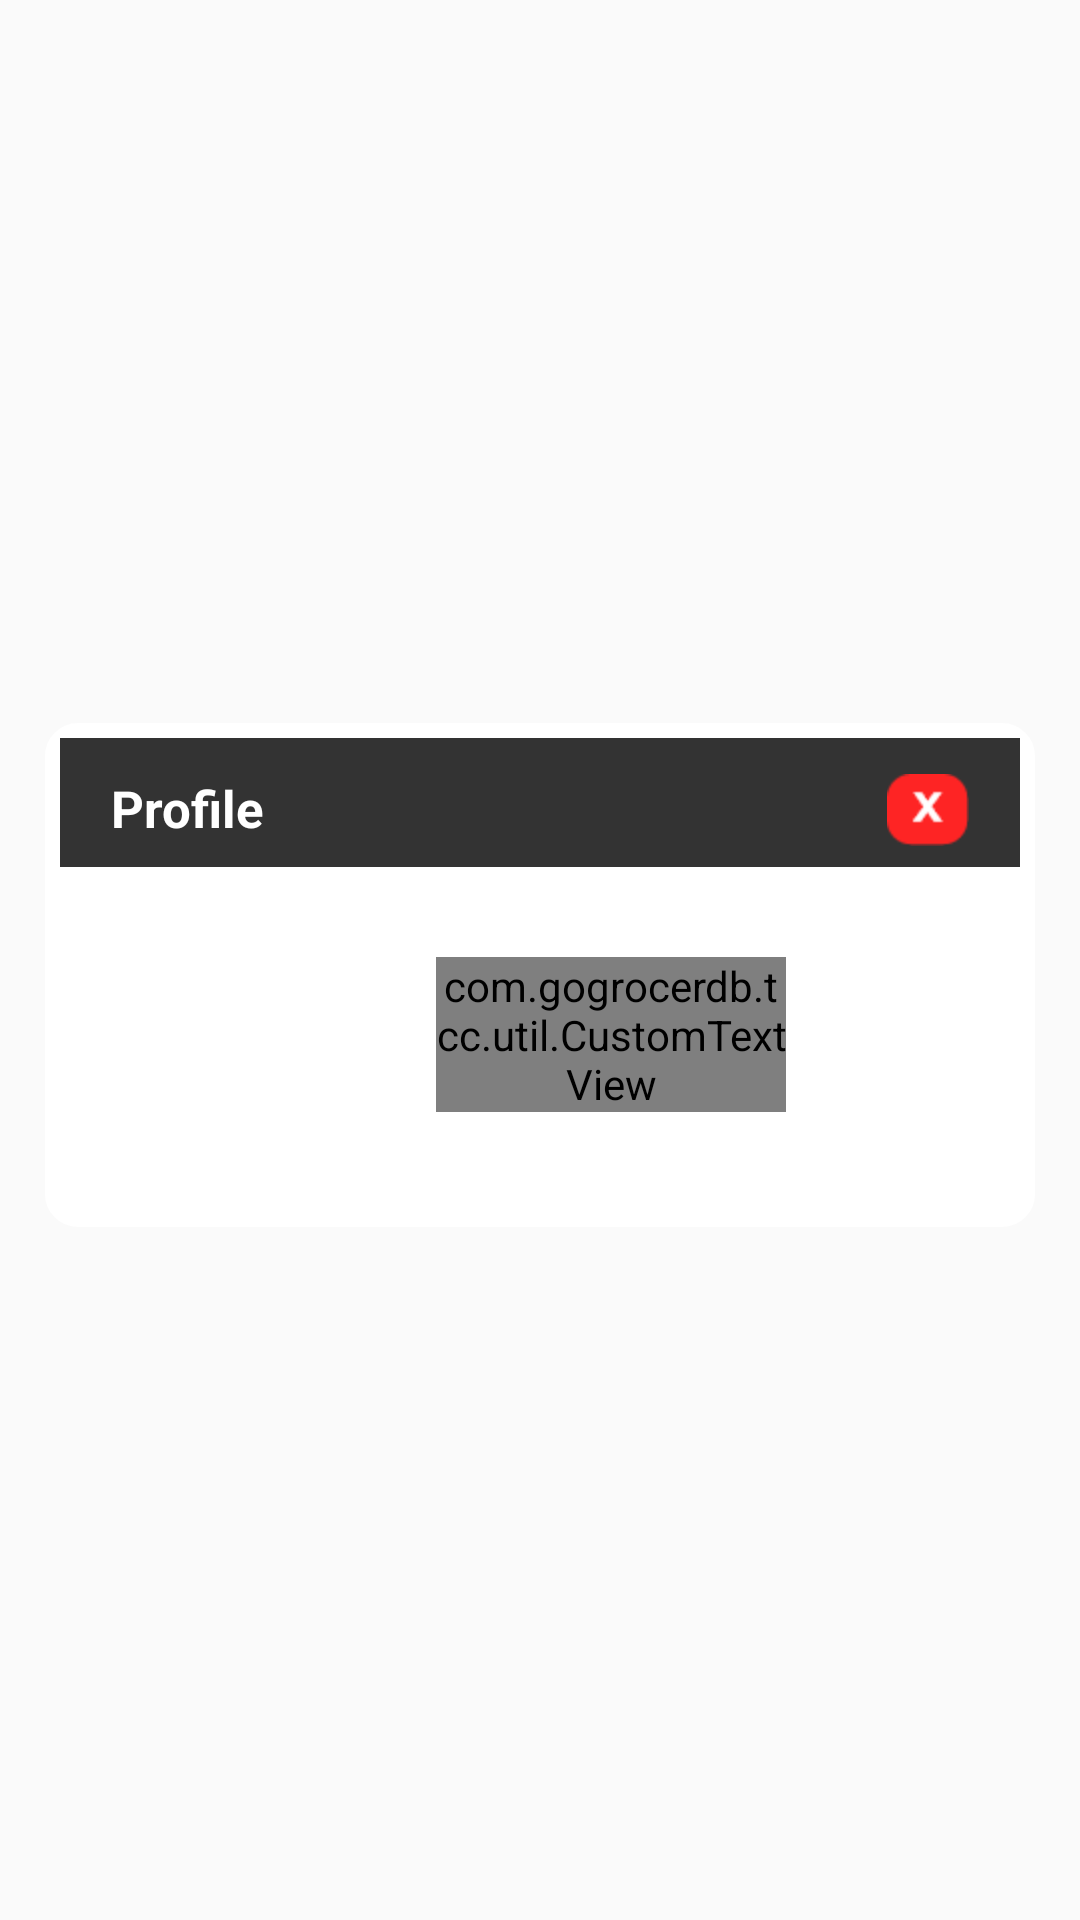

Where to tap for icons on this 1080 × 1920 app screen, as (x,y):
close: (928,810)
